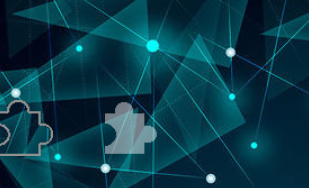target: (101, 102, 157, 157)
